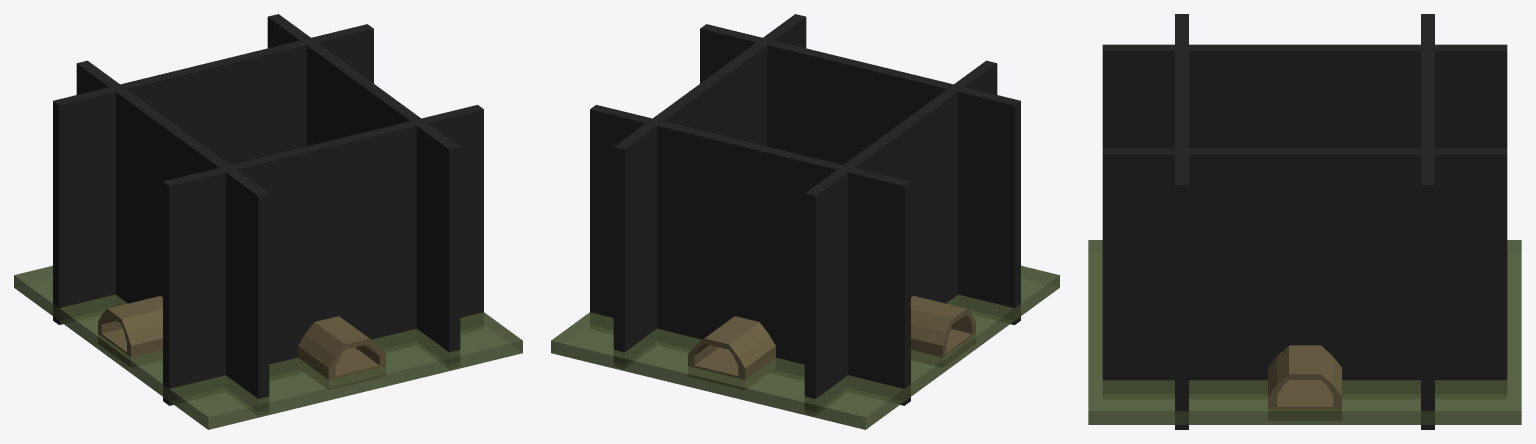
File: HomeTown2.0.fbx
The picture shows the model from 3 angles, left to right: view 1: azimuth 30°, elevation 25°; view 2: azimuth 150°, elevation 25°; view 3: azimuth 270°, elevation 25°; orthographic projection. The views are drawn at different scales.
Parts seen in each view (by area): view 1: pCube15, pCube16, pCube17, pCube18, Water, Tunnel4, Tunnel; view 2: pCube16, pCube15, pCube17, pCube18, Water, Tunnel2, Tunnel; view 3: pCube18, pCube17, Water, pCube15, pCube16, Tunnel3.
Part boxes in pixels (box(x1,y1,x2,y2)): pCube15: box(163, 105, 483, 405); pCube16: box(53, 24, 373, 324); pCube17: box(76, 60, 269, 411); pCube18: box(267, 14, 460, 364); Water: box(14, 265, 522, 429); Tunnel4: box(298, 316, 385, 389); Tunnel: box(98, 296, 162, 367); pCube16: box(590, 105, 910, 405); pCube15: box(700, 24, 1020, 324); pCube17: box(804, 60, 997, 411); pCube18: box(613, 14, 806, 364); Water: box(551, 265, 1059, 429); Tunnel2: box(688, 316, 775, 389); Tunnel: box(911, 296, 975, 367); pCube18: box(1102, 148, 1507, 393); pCube17: box(1102, 44, 1507, 148); Water: box(1088, 240, 1521, 424); pCube15: box(1175, 14, 1188, 429); pCube16: box(1421, 14, 1434, 429); Tunnel3: box(1268, 345, 1341, 420).
Bounding box in the file's own units: 28.78 × 19.2 × 30.78.
